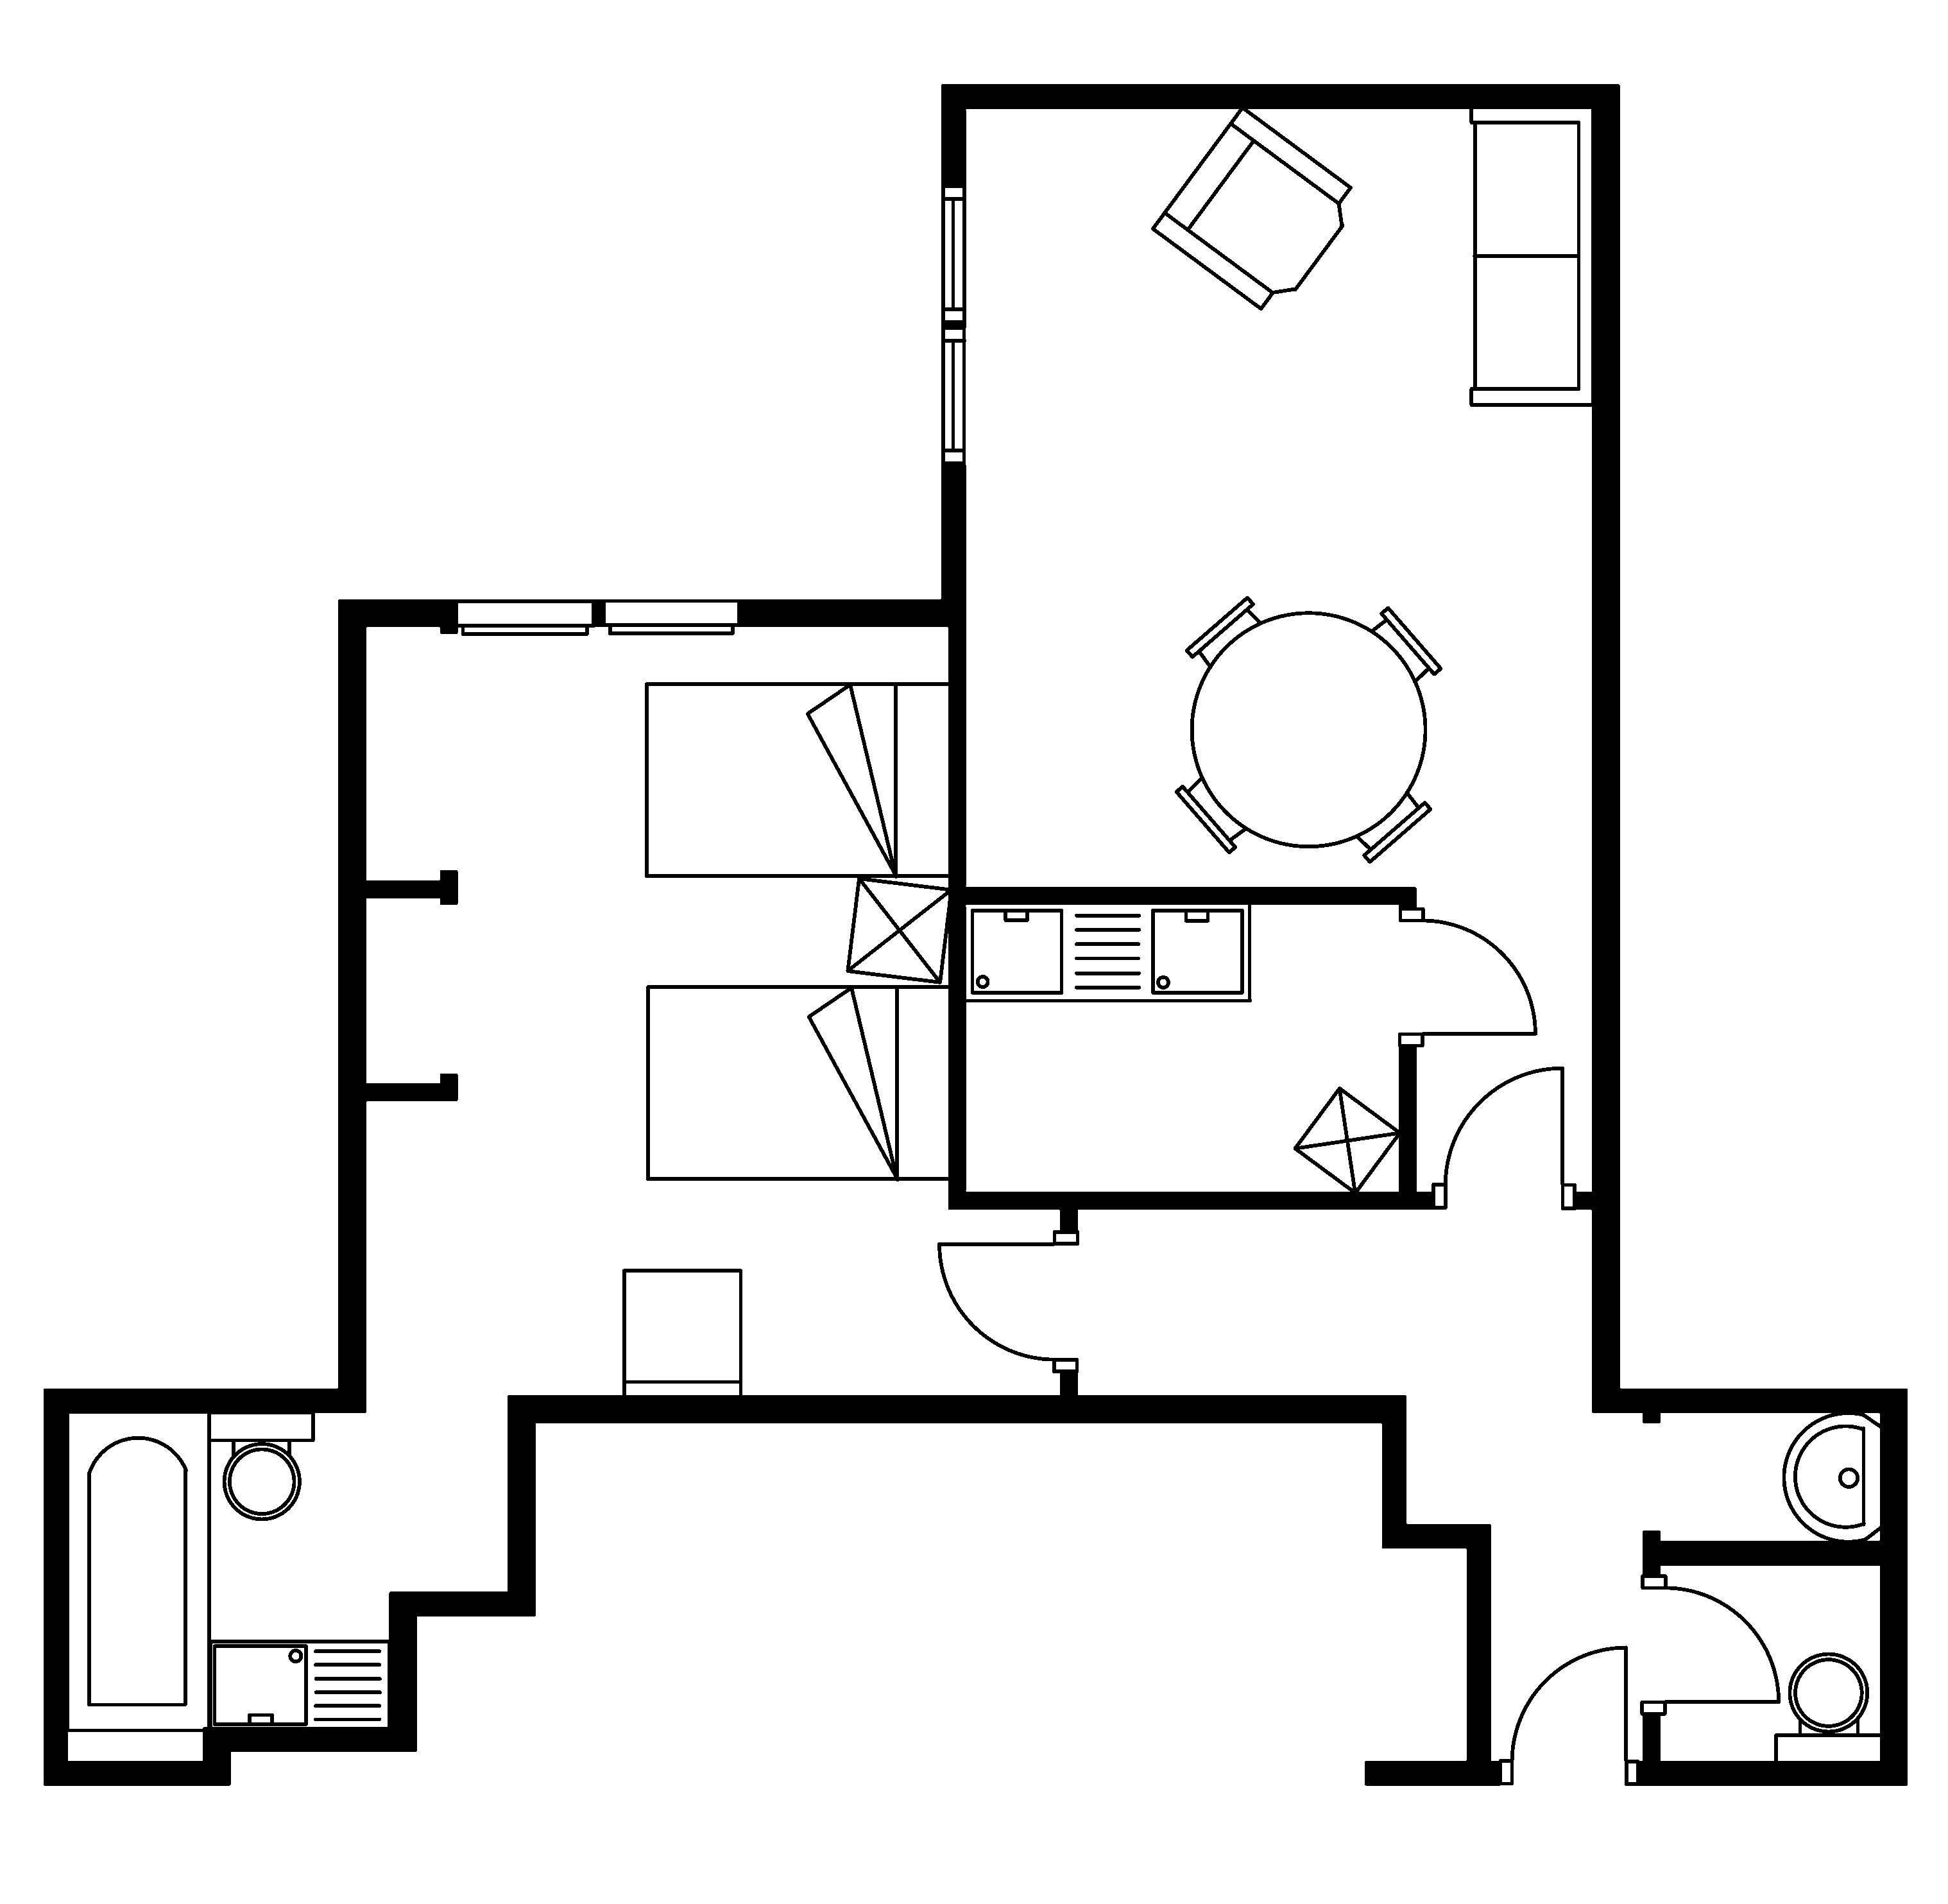armchair: (1149, 105, 1353, 310)
bed: (644, 680, 952, 879), (645, 983, 954, 1182)
coffee_table: (1292, 1086, 1402, 1194), (846, 875, 952, 985)
large_sink: (1774, 1653, 1885, 1766), (206, 1411, 316, 1520)
large_sofa: (1468, 105, 1596, 406)
round_table: (1174, 595, 1442, 863)
sink: (208, 1639, 391, 1731)
small_sink: (1782, 1411, 1883, 1543)
small_sofa: (621, 1268, 743, 1402)
tub: (65, 1409, 211, 1733)
twin_sink: (961, 900, 1252, 1003)
